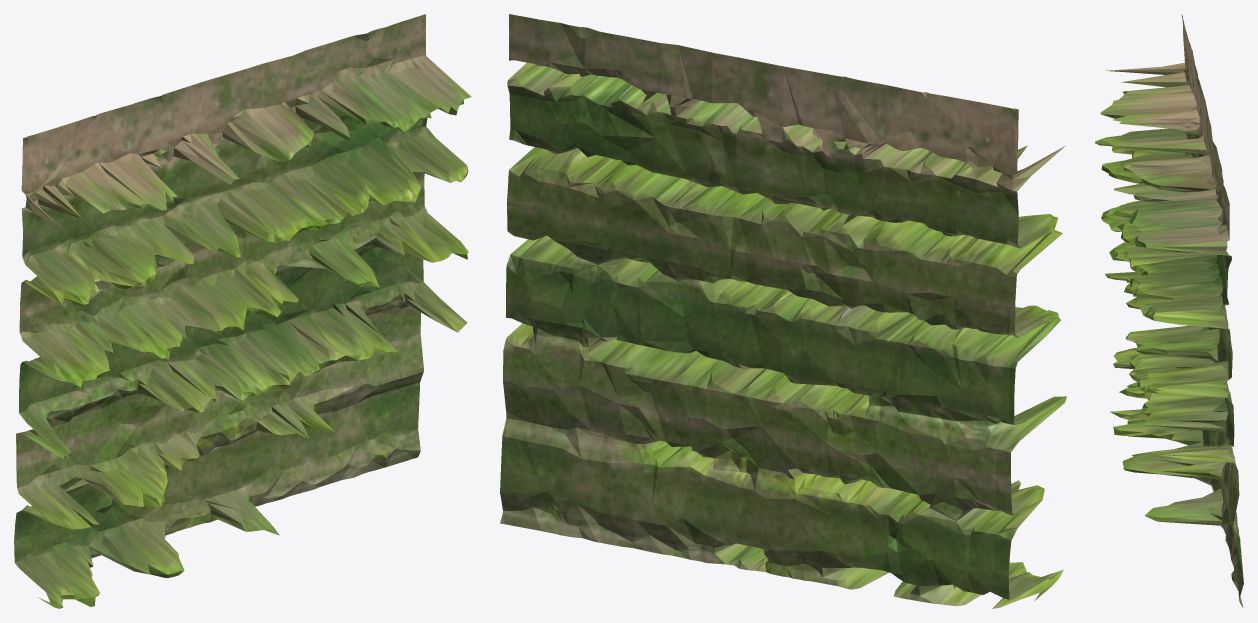
Rendered from map_150_60.obj.
The picture shows the model from 3 angles, left to right: view 1: azimuth 30°, elevation 25°; view 2: azimuth 150°, elevation 25°; view 3: azimuth 270°, elevation 25°; orthographic projection. The views are drawn at different scales.
Parts seen in each view (by area): view 1: grp1; view 2: grp1; view 3: grp1.
Part boxes in pixels (x1,y1,x2,y2): grp1: (14,14,471,608); grp1: (500,14,1066,608); grp1: (1095,14,1243,607).
Size of the model in its own units: 10 by 10 by 3.32.
Materials: 1 (1 with a texture image).
